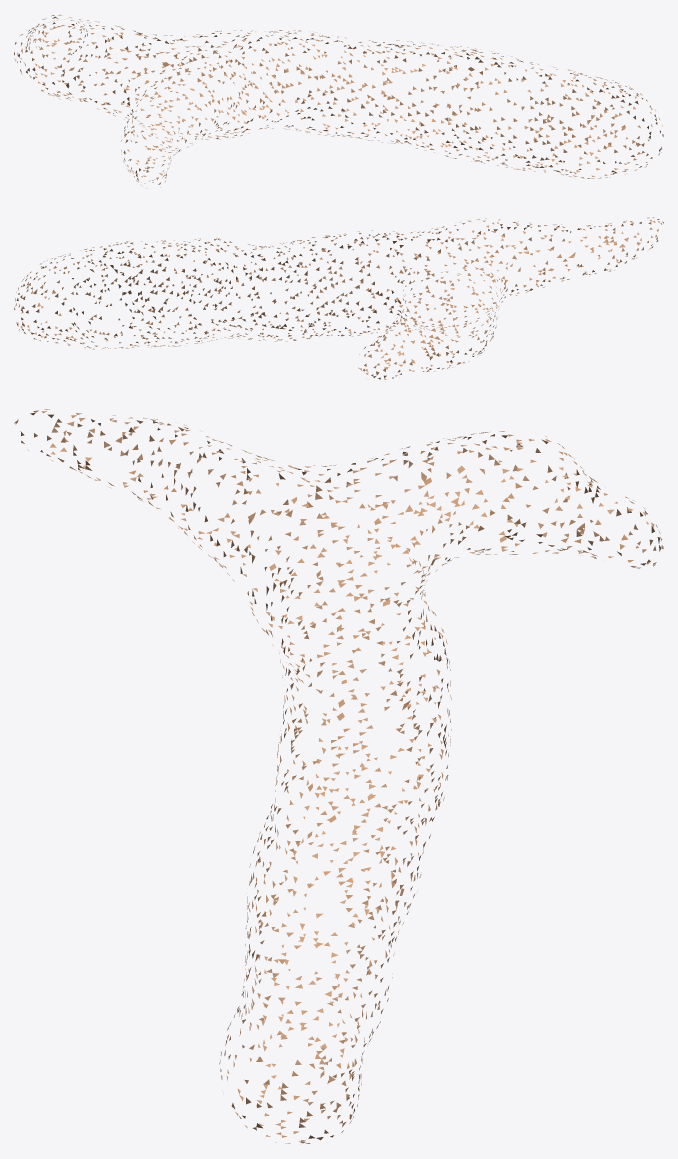
File: morph_005.glb
3 renders of one model, top to bottom at view 1: azimuth 30°, elevation 25°; view 2: azimuth 150°, elevation 25°; view 3: azimuth 270°, elevation 25°, orthographic. The views are drawn at different scales.
Bounding box in the file's own units: 107 × 37.6 × 65.51.
